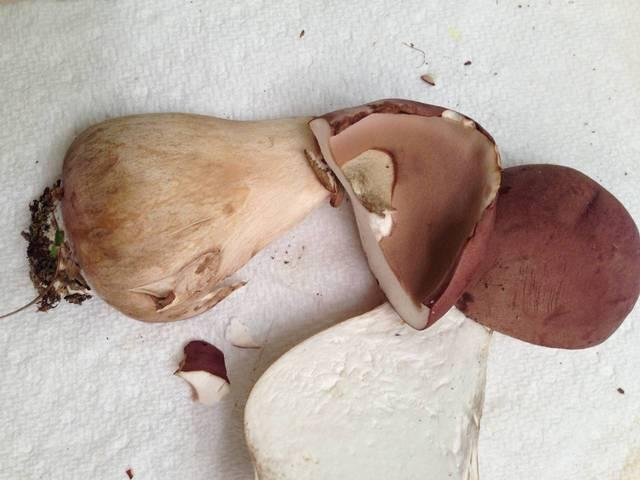Non-edible Mushroom: (16, 72, 640, 480)
